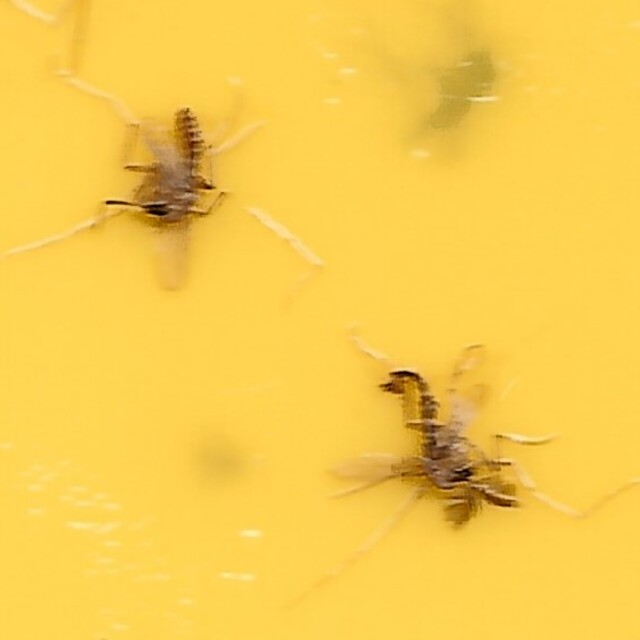Nematocera: (375, 361, 526, 531), (114, 109, 218, 236)
